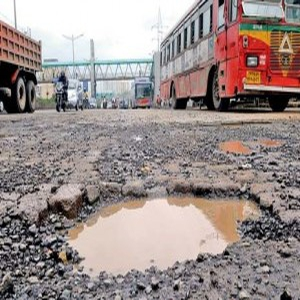pothole: (37, 177, 275, 288)
